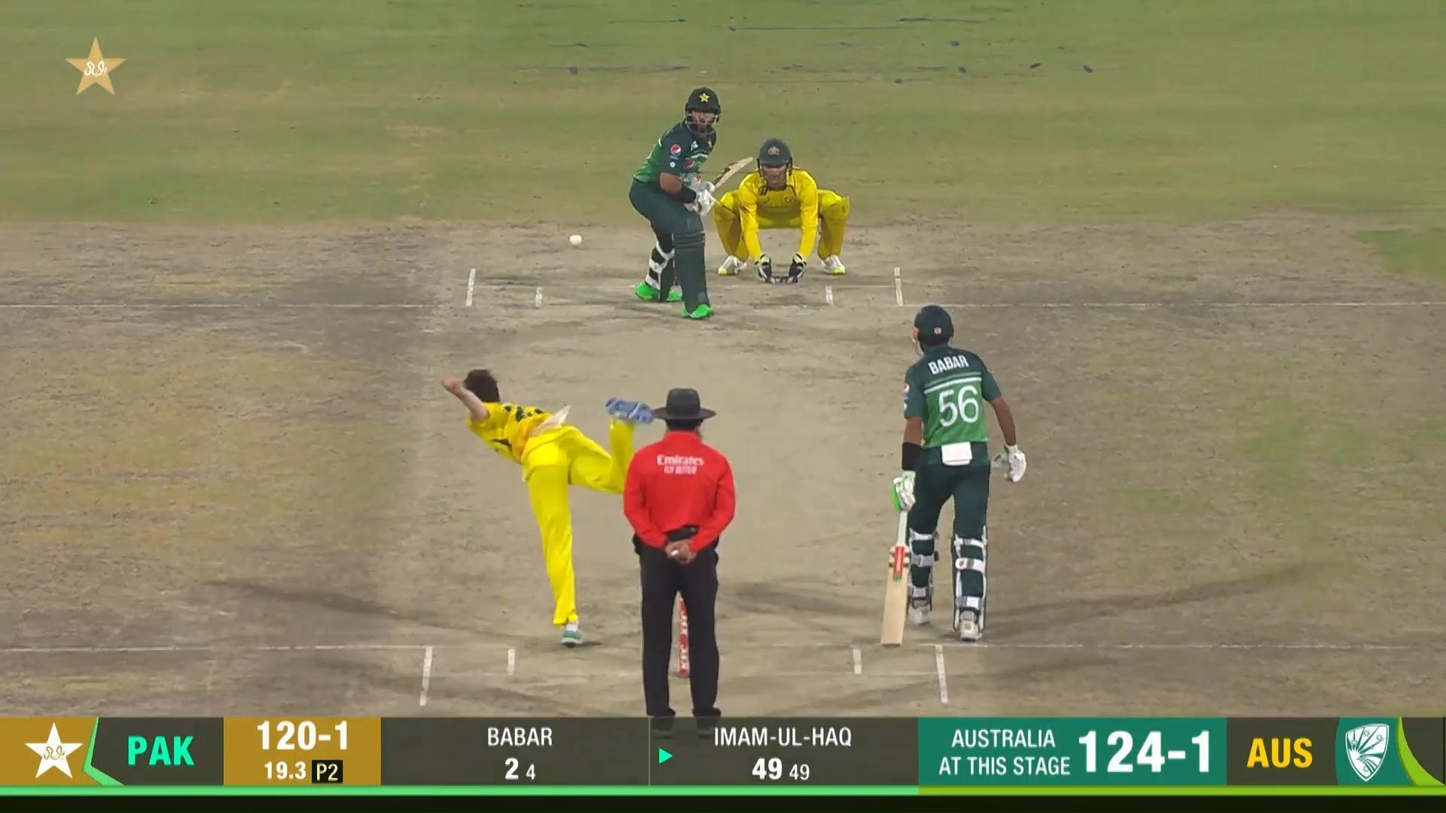BM 1: (628, 86, 756, 321)
BO: (439, 368, 655, 648)
